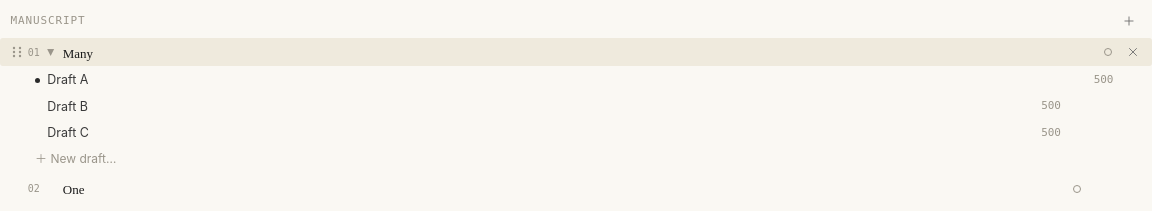
it: ChapterList draft tree (9wk.7) › the open chapter can be manually collapsed (override beats the default)
Expected: the list with test id "draft-list-ch-1" is shown, x1=0 y1=66 x2=1151 y2=171
Click the button named "Show drafts".
click(52, 52)  # box x1=42 y1=47 x2=63 y2=58
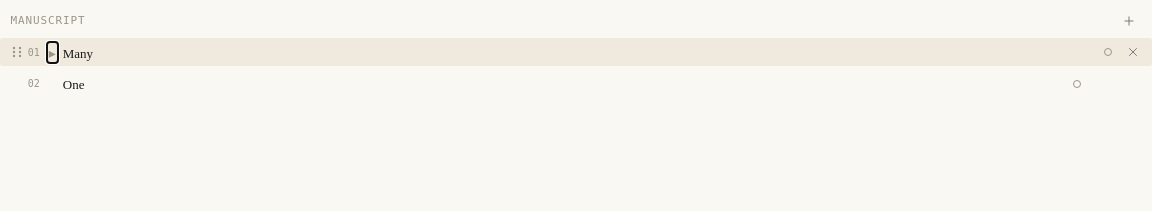
Now the list with test id "draft-list-ch-1" is gone
